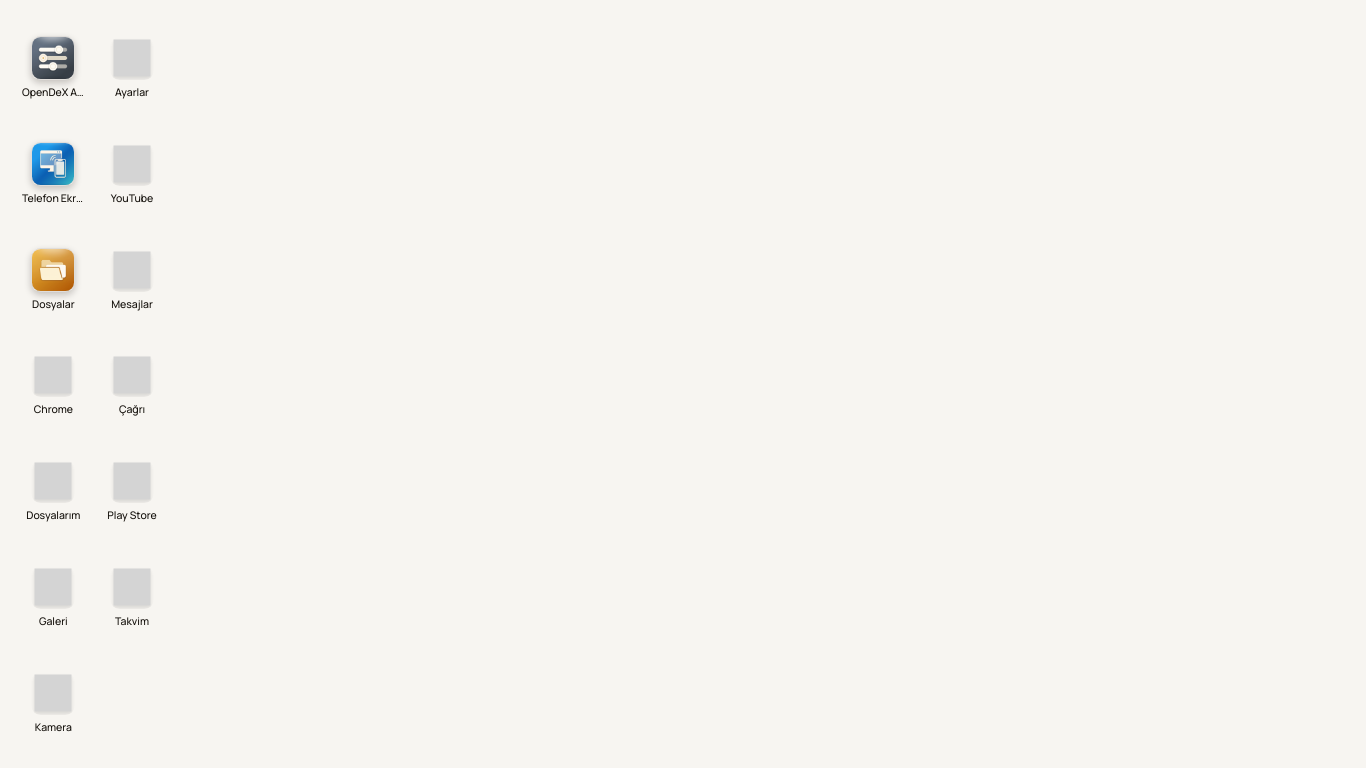
Scenario: Desktop kabuğu (ui/Menu + ui/Dialog) › sağ tık → "Arka planı değiştir…" kapak resmi penceresini açar, Esc kapatır; eski "Arka plan" alt menüsü yok
The width and height of the screenshot is (1366, 768).
Step 1. Right-click the element named "DeX Masaüstü" → (93, 384), box [16,16,169,752]
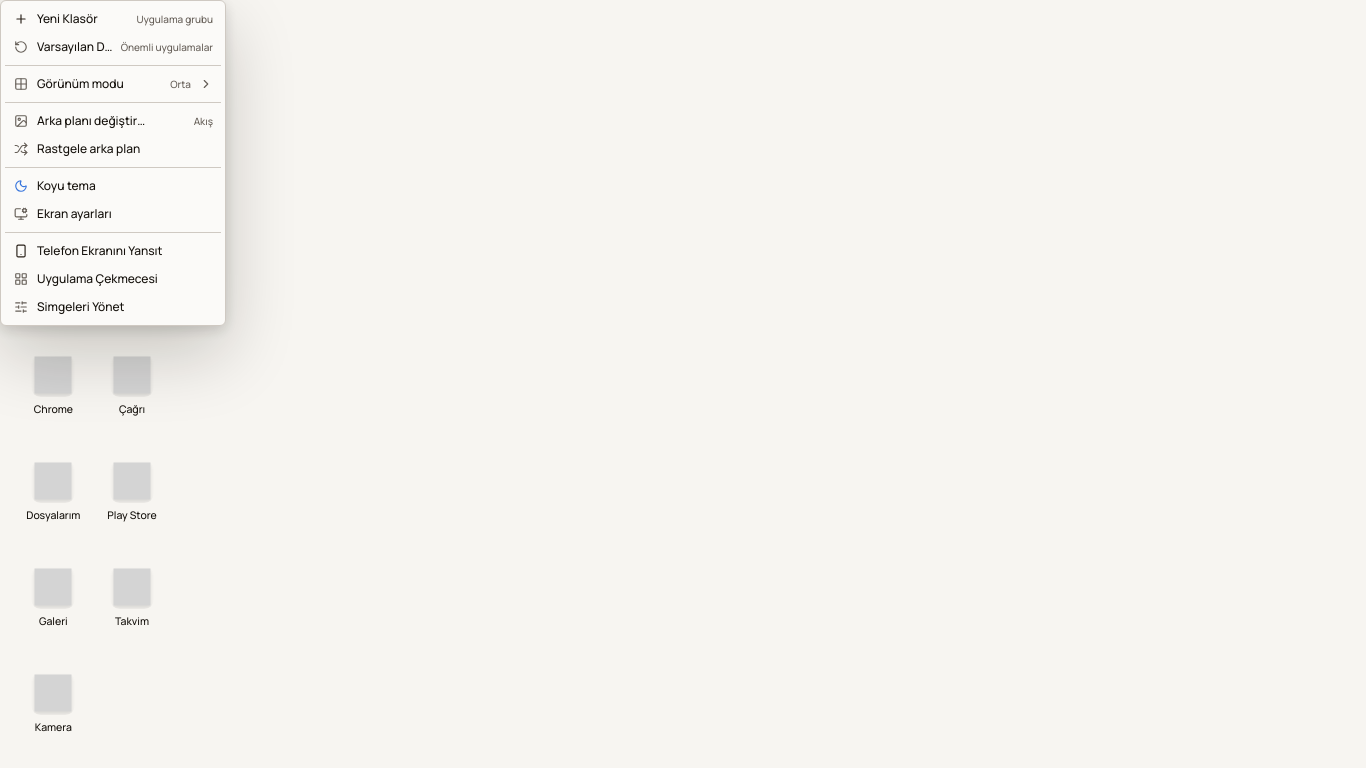
Check: the menu named "Masaüstü menüsü" is shown, box [0,0,226,326]
Step 2. Click the menu item "Arka planı değiştir… Akış" → (113, 121), box [5,107,221,135]
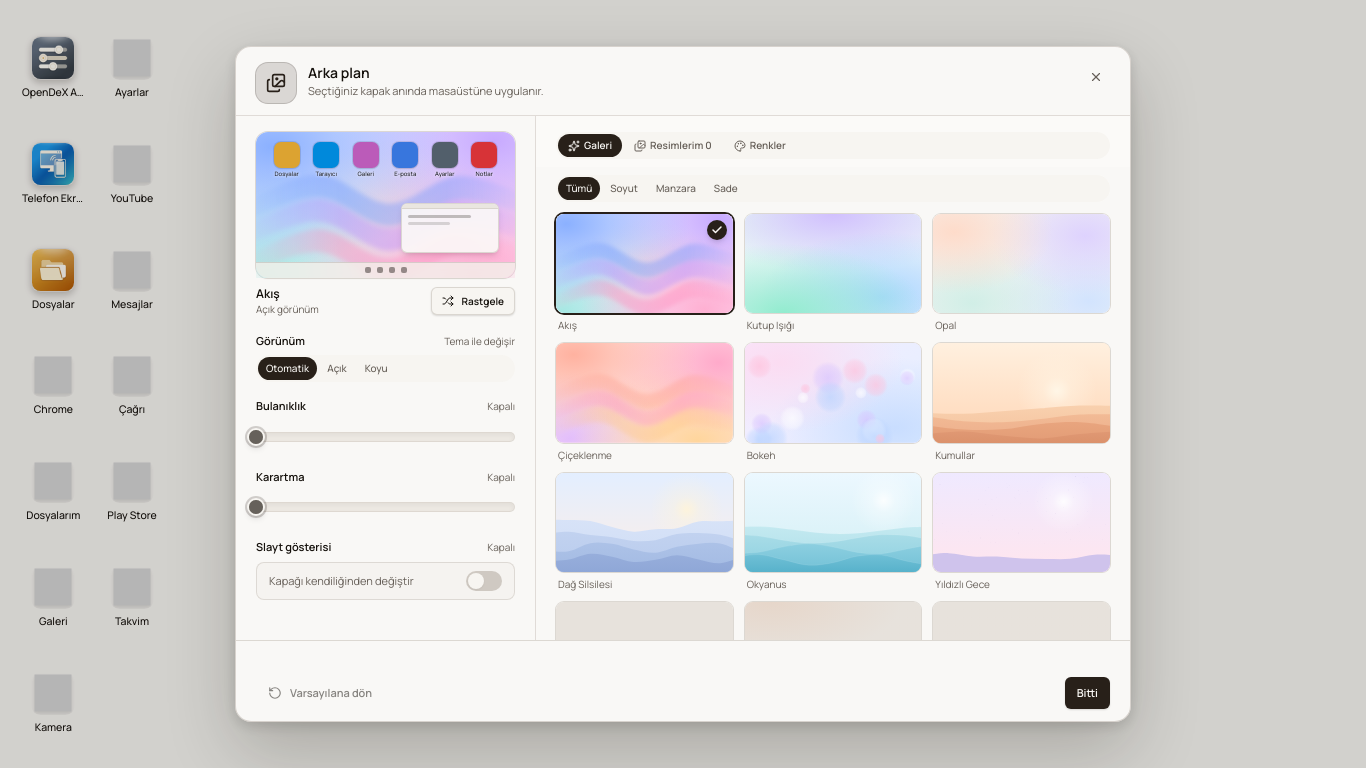
Check: the dialog "Arka plan" is shown, box [235,46,1131,722]
Step 3. Press Escape
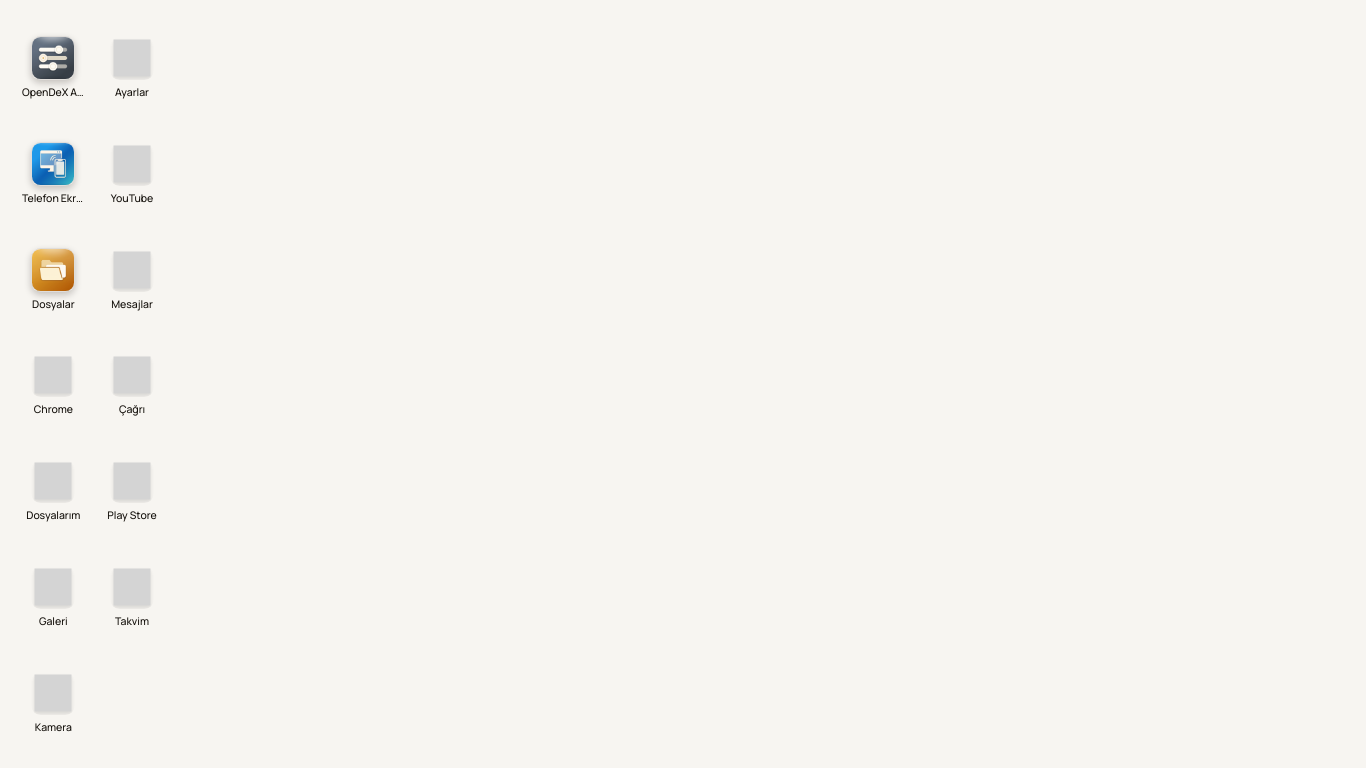
Check: the heading "Arka plan" is gone
